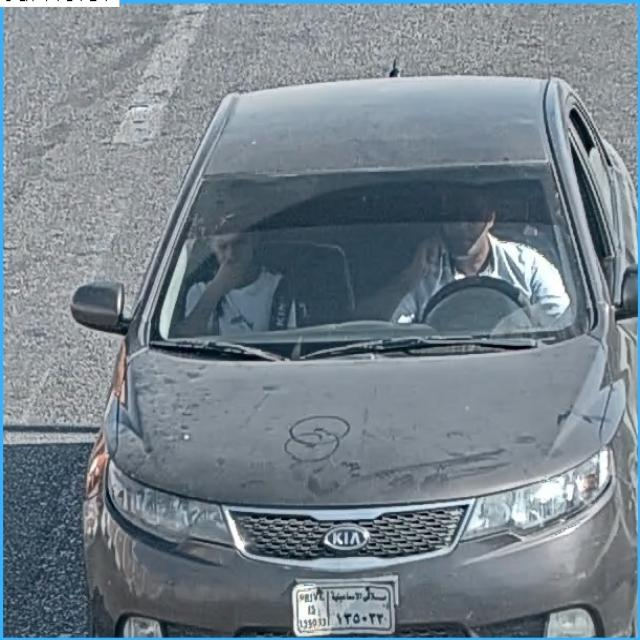windshield: (143, 175, 600, 346)
